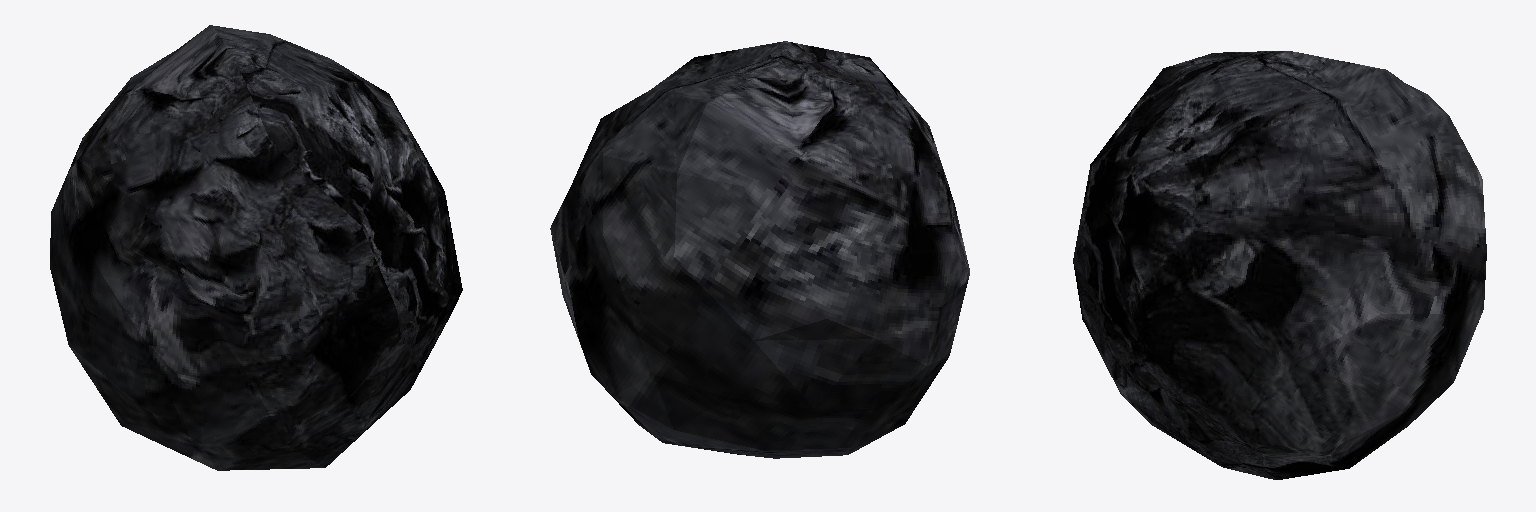
3 renders of one model, left to right at view 1: azimuth 30°, elevation 25°; view 2: azimuth 150°, elevation 25°; view 3: azimuth 270°, elevation 25°, orthographic.
Parts seen in each view (by area): view 1: rock.001; view 2: rock.001; view 3: rock.001.
Boxes of the visible parts, x1=… form: rock.001: x1=50, y1=25, x2=462, y2=470; rock.001: x1=550, y1=41, x2=969, y2=458; rock.001: x1=1073, y1=51, x2=1486, y2=479.
Size of the model in its own units: 2.41 by 2.63 by 2.5.
Materials: 1 (1 with a texture image).